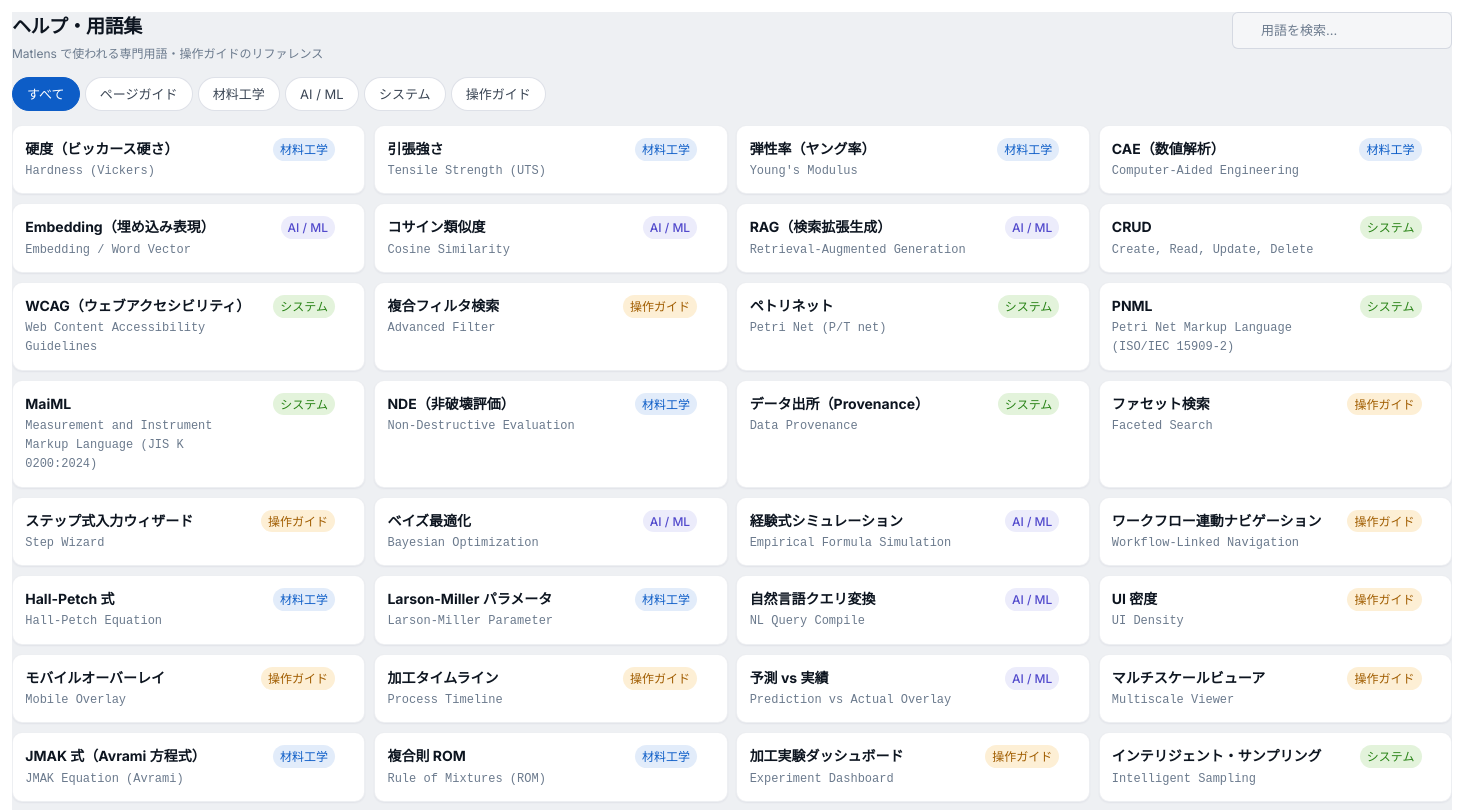
Test: HelpPage › shows page guide catalog when guide tab selected
The width and height of the screenshot is (1464, 810).
Click the tab "ページガイド" at [139, 94], box [85, 77, 193, 111]
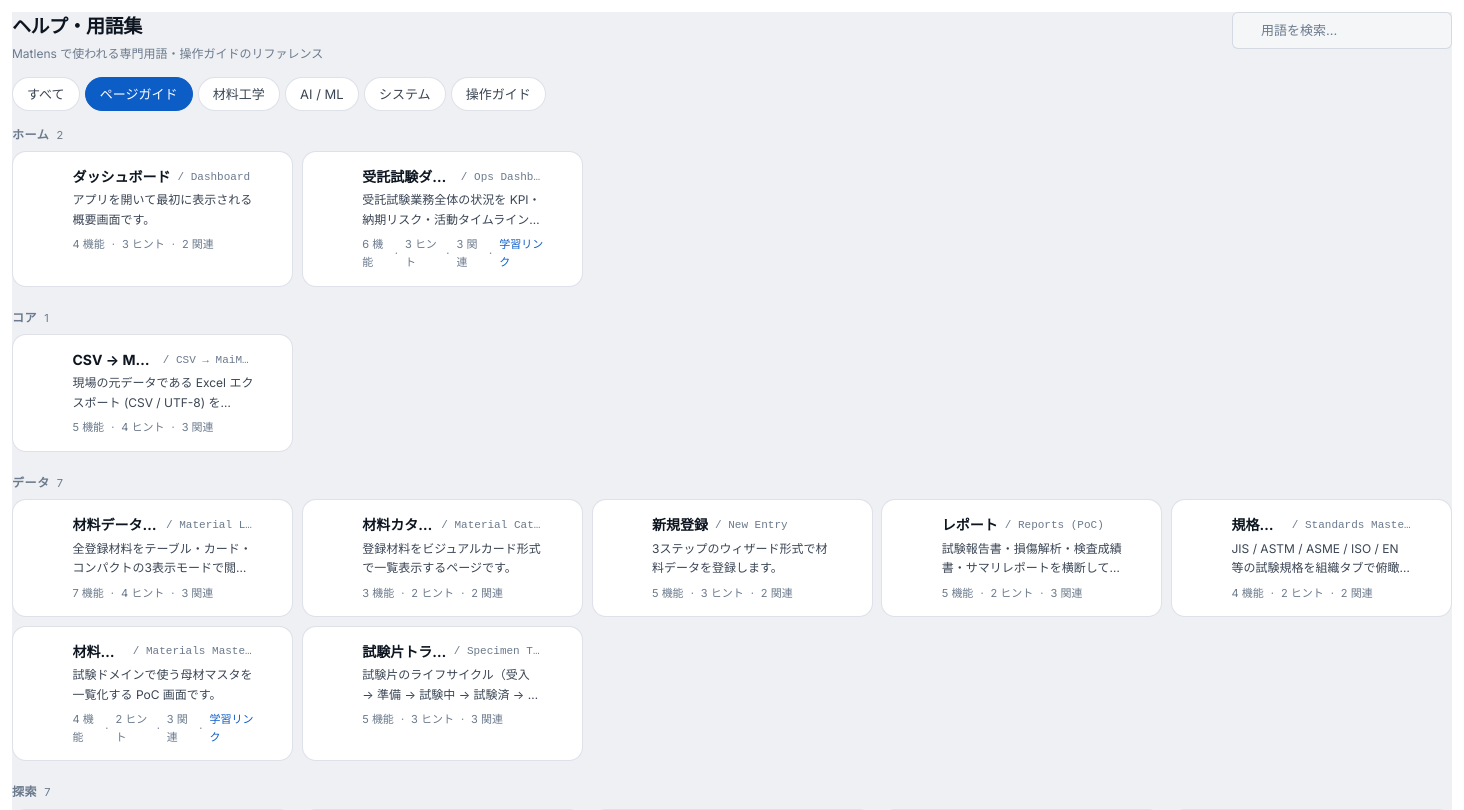
Check: the heading "ダッシュボード" is shown, box [72, 166, 170, 189]
Check: the heading "ホーム" is shown, box [12, 125, 50, 144]
Check: the heading "データ" is shown, box [12, 473, 50, 492]
